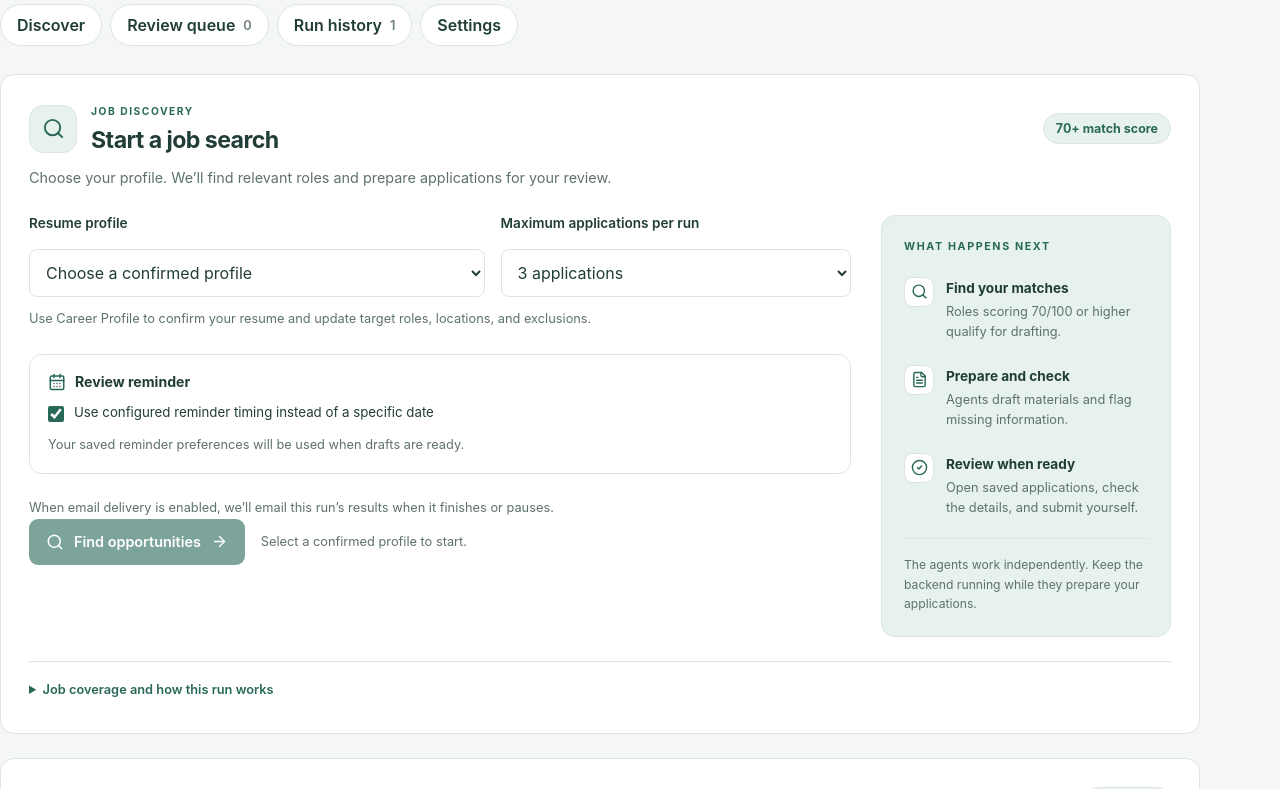
Test: shows a manual cooldown without making automatic retries
Select "Resume.pdf" in the dropdown labelled "Resume profile" at {"x": 257, "y": 273}, box [29,249,485,297]
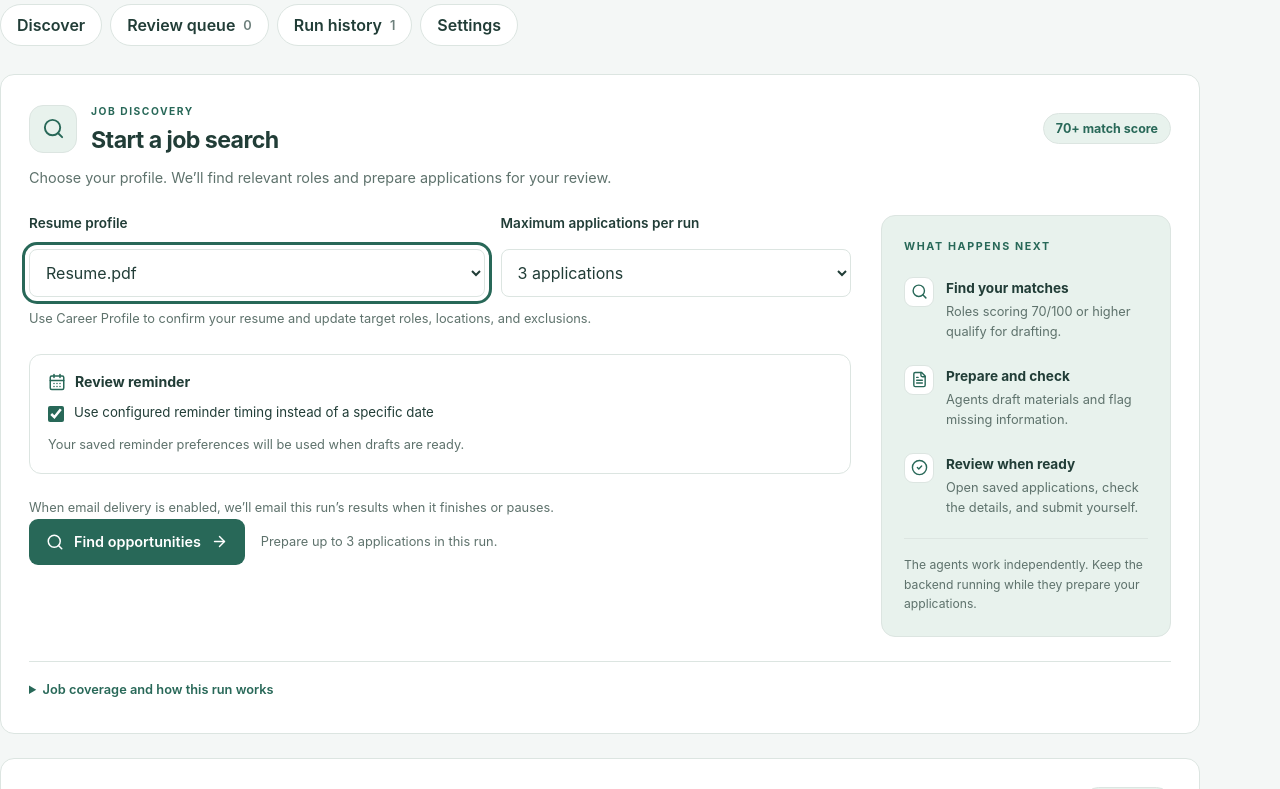
Result: the button "Find opportunities" is enabled at [29,519,245,565]
